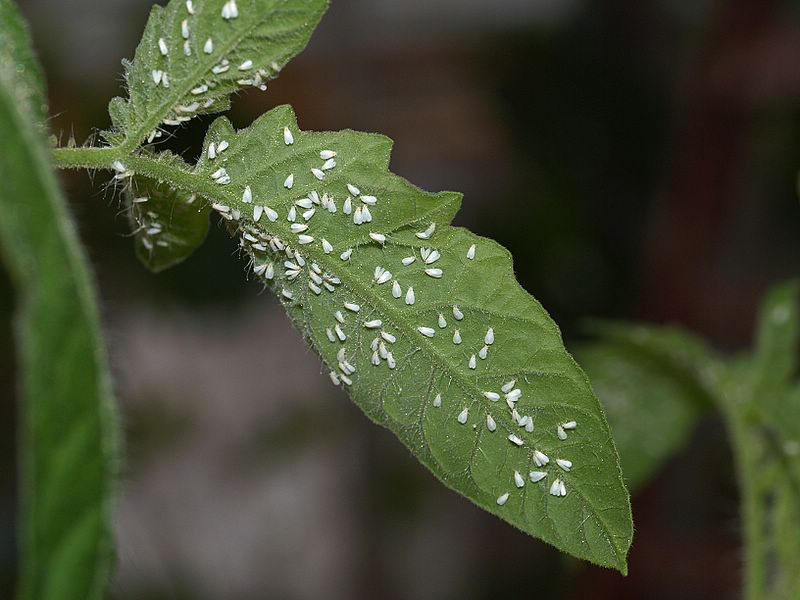whitefly: (281, 124, 295, 146), (532, 449, 550, 466), (528, 470, 549, 483), (263, 206, 279, 223), (308, 166, 326, 181), (506, 432, 525, 446), (404, 284, 416, 306), (358, 194, 378, 207), (512, 468, 525, 488), (425, 249, 442, 264), (241, 183, 253, 204), (504, 389, 523, 402), (424, 267, 444, 279), (501, 378, 516, 394), (496, 491, 512, 506), (369, 231, 386, 245), (555, 458, 572, 472), (333, 324, 346, 342), (417, 325, 435, 338), (321, 236, 333, 255), (390, 279, 402, 298), (457, 406, 469, 425), (482, 391, 501, 403), (307, 190, 322, 205), (321, 158, 337, 172), (361, 204, 372, 224), (484, 326, 495, 346), (485, 412, 496, 432), (549, 477, 560, 497), (151, 69, 163, 87), (302, 207, 316, 222), (253, 263, 268, 277), (271, 237, 286, 251), (203, 36, 214, 55), (341, 196, 352, 215), (291, 223, 310, 234), (211, 202, 230, 213), (380, 330, 396, 343), (373, 265, 385, 282), (510, 407, 522, 424), (328, 369, 340, 386), (353, 205, 363, 225), (362, 319, 382, 329), (525, 413, 535, 433), (253, 205, 264, 223), (297, 234, 315, 245), (294, 250, 305, 268), (342, 300, 360, 311), (426, 222, 437, 240), (340, 248, 354, 262), (308, 281, 322, 295), (238, 60, 253, 73), (216, 140, 229, 155), (318, 149, 337, 159), (287, 204, 297, 223), (401, 255, 418, 266), (378, 343, 389, 360), (346, 183, 360, 196), (265, 262, 275, 280), (466, 243, 476, 261), (181, 19, 190, 39), (211, 167, 226, 179), (452, 305, 464, 320), (386, 351, 396, 369), (437, 313, 448, 329), (557, 425, 568, 441), (207, 141, 216, 160), (327, 197, 337, 214), (158, 38, 168, 55), (228, 1, 238, 18), (283, 173, 293, 189), (478, 344, 488, 360), (336, 347, 346, 363), (561, 420, 577, 430), (286, 270, 300, 281), (453, 328, 462, 345), (468, 353, 477, 370), (420, 247, 430, 262), (215, 175, 230, 185), (369, 336, 379, 351), (222, 1, 230, 19), (433, 392, 442, 408), (250, 243, 268, 251), (185, 1, 195, 15), (183, 39, 191, 56), (334, 311, 345, 323), (558, 480, 566, 496), (326, 329, 335, 343), (371, 351, 380, 365)
